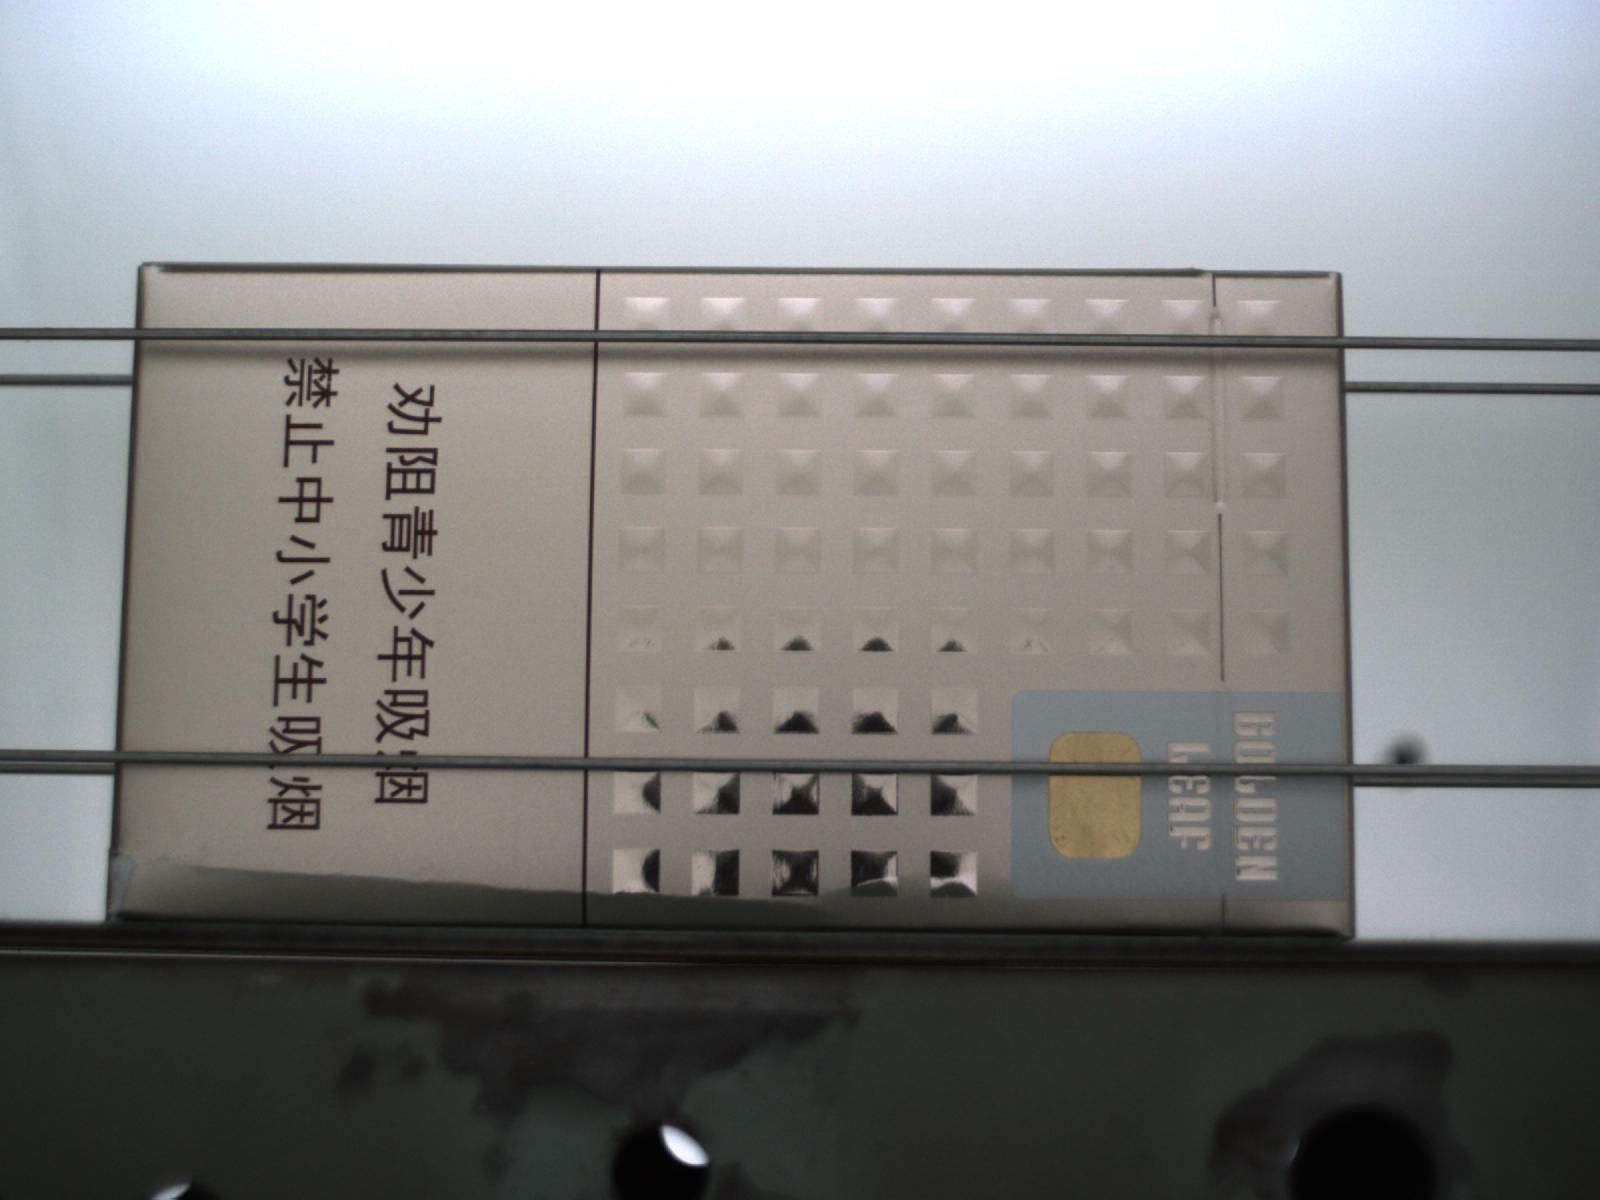dirtyScratch: (100, 858, 950, 932)
skewed_upper_0: (102, 850, 154, 924)
